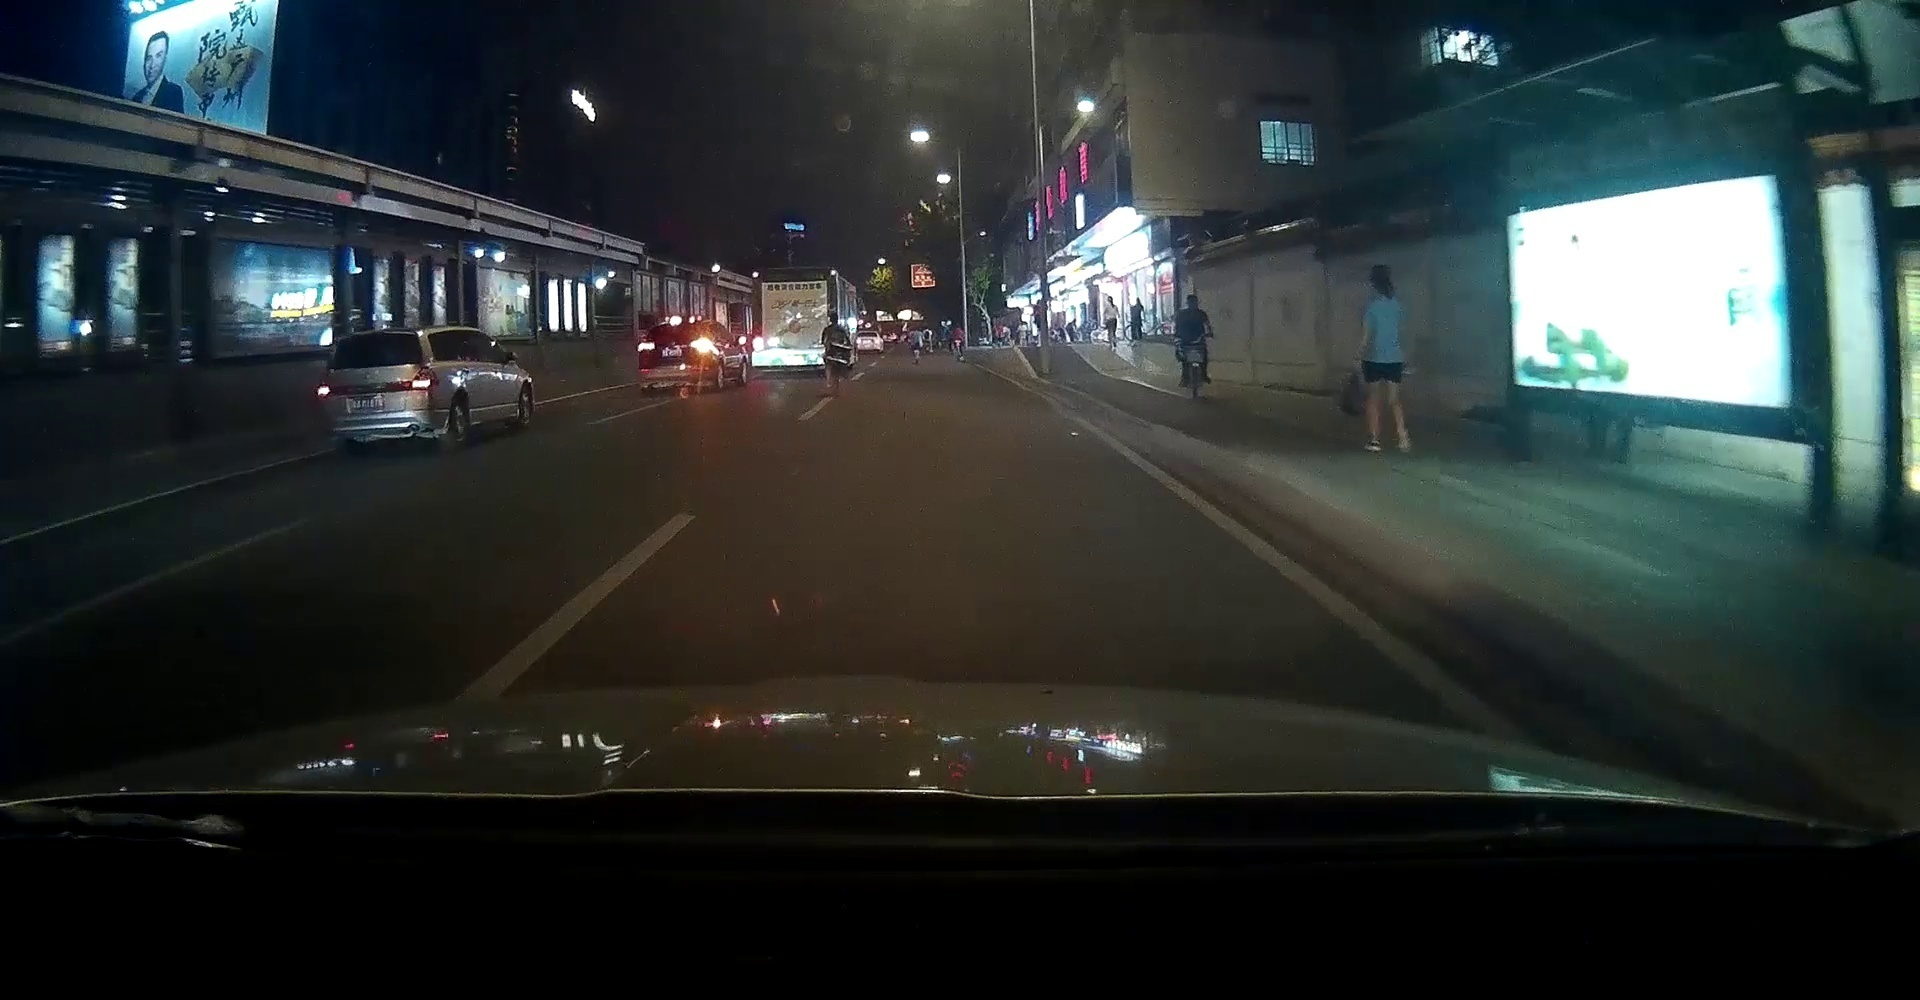L_light: (317, 379, 334, 397), (637, 341, 655, 352)
R_light: (409, 365, 439, 391), (690, 339, 712, 349)
T_light: (370, 332, 385, 338), (670, 320, 681, 325)
night-no: (317, 326, 442, 458)
night-right: (636, 316, 717, 392)
